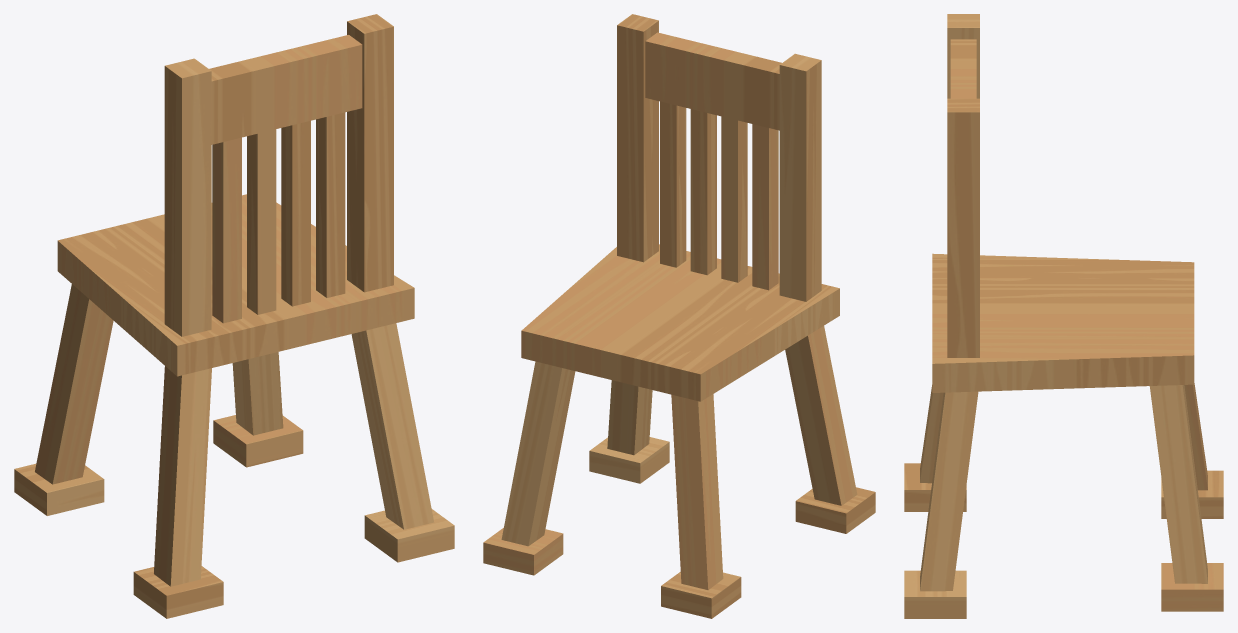
File: chair.fbx
The picture shows the model from 3 angles, left to right: view 1: azimuth 30°, elevation 25°; view 2: azimuth 150°, elevation 25°; view 3: azimuth 270°, elevation 25°; orthographic projection. The views are drawn at different scales.
Parts seen in each view (by area): view 1: pCube1, leg1, polySurface6, leg, leg3, polySurface5, polySurface4, leg2, polySurface9, polySurface7, polySurface10, polySurface8; view 2: pCube1, leg3, polySurface6, leg2, leg1, polySurface4, polySurface5, leg, polySurface8, polySurface9, polySurface10, polySurface7; view 3: pCube1, leg, leg2, polySurface4, leg3, leg1, polySurface5, polySurface6.
Part boxes in pixels (x1,y1,x2,y2): pCube1: [57, 194, 414, 376]; leg1: [133, 366, 223, 618]; polySurface6: [164, 58, 211, 336]; leg: [351, 323, 454, 562]; leg3: [14, 284, 113, 515]; polySurface5: [209, 35, 362, 144]; polySurface4: [347, 14, 393, 292]; leg2: [213, 352, 303, 467]; polySurface9: [247, 129, 276, 314]; polySurface7: [316, 112, 345, 297]; polySurface10: [212, 137, 241, 323]; polySurface8: [281, 120, 310, 306]; pCube1: [521, 244, 839, 401]; leg3: [661, 394, 741, 618]; polySurface6: [779, 53, 821, 301]; leg2: [483, 361, 575, 575]; leg1: [785, 326, 875, 533]; polySurface4: [617, 14, 658, 262]; polySurface5: [645, 32, 781, 130]; leg: [589, 380, 669, 483]; polySurface8: [690, 109, 716, 275]; polySurface9: [721, 116, 747, 282]; polySurface10: [752, 124, 778, 290]; polySurface7: [660, 101, 686, 267]; pCube1: [932, 253, 1194, 392]; leg: [904, 391, 978, 618]; leg2: [1149, 385, 1223, 611]; polySurface4: [947, 98, 979, 357]; leg3: [1161, 383, 1223, 518]; leg1: [904, 385, 966, 511]; polySurface5: [950, 39, 976, 98]; polySurface6: [947, 14, 979, 98].
Size of the model in its own units: 4.25 by 7.26 by 4.3.
